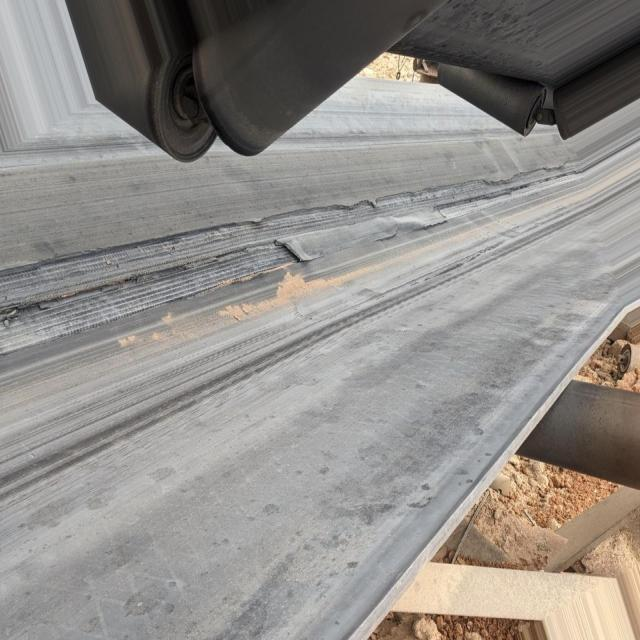Roller: (195, 3, 364, 157), (108, 61, 213, 158), (440, 64, 544, 140), (555, 66, 628, 139)
Tear: (2, 164, 566, 354)
